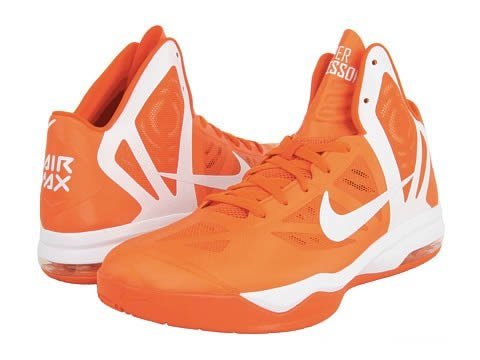nike: (318, 174, 410, 243)
